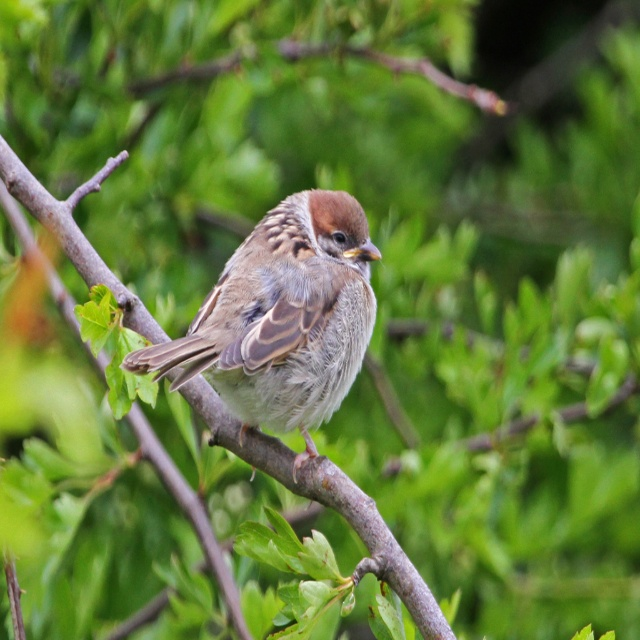Sparrow: (121, 184, 383, 486)
